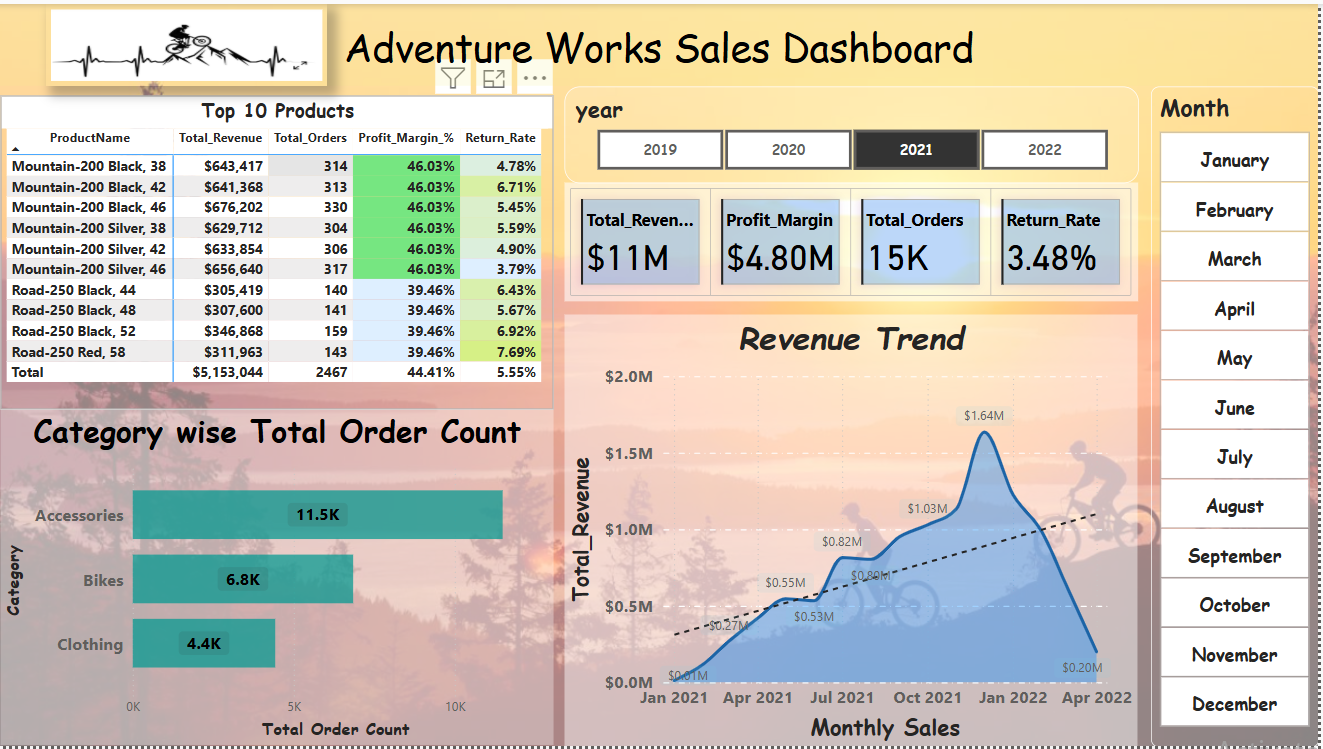

This screenshot's page, from the dashboard's own definition file:
{"tool":"powerbi","page":{"name":"Page 7","canvas":[1280,720],"ordinal":6},"visuals":[{"type":"cardVisual","fields":{"Data":["Measure_Table.Total_Revenue","Measure_Table.Profit_Margin","Measure_Table.Total_Orders","Measure_Table.Return_Rate"]},"box":[548.3,173.3,556.7,115],"z":0},{"type":"pivotTable","title":"Top 10 Products","fields":{"Rows":["Product Lookup.ProductName"],"Values":["Measure_Table.Total_Revenue","Measure_Table.Total_Orders","Measure_Table.Profit_Margin_%","Measure_Table.Return_Rate"]},"box":[2.2,89.1,537,304.3],"z":1000},{"type":"clusteredBarChart","title":"Category wise Total Order Count","fields":{"Category":["Product Categories Lookup.CategoryName"],"Y":["Measure_Table.Total_Orders"]},"box":[2.2,393.5,537,326.1],"z":2000},{"type":"slicer","title":"year","fields":{"Values":["Sales_Final.StockDate.Variation.Date Hierarchy.Year"]},"box":[548.9,79.3,557,93.9],"z":3000},{"type":"advancedSlicerVisual","fields":{"Values":["Calendar Lookup.Date.Variation.Date Hierarchy.Month"]},"box":[1117.3,79.3,163.5,641.2],"z":4000},{"type":"lineChart","title":"Revenue Trend","fields":{"Category":["Calendar Lookup.Date.Variation.Date Hierarchy.Year","Calendar Lookup.Date.Variation.Date Hierarchy.Month"],"Y":["Measure_Table.Total_Revenue"]},"box":[548.1,300.8,556,419],"z":5000},{"type":"textbox","box":[0,0,1280.8,79.3],"z":6000},{"type":"image","box":[45.3,0,273.6,79.3],"z":6001}]}

Visuals, with their boxes in screenshot pixels (x1, y1, x2, y2), scaled from the page's 1280x720 canvas onto the 1323x749 screenshot:
cardVisual - Measure_Table.Total_Revenue x Measure_Table.Profit_Margin: 567 180 1142 300
"Top 10 Products" pivotTable: 2 93 557 409
"Category wise Total Order Count" clusteredBarChart: 2 409 557 748
"year" slicer: 567 82 1143 180
advancedSlicerVisual - Calendar Lookup.Date.Variation.Date Hierarchy.Month: 1155 82 1322 748
"Revenue Trend" lineChart: 567 313 1141 748
textbox: 0 0 1322 82
image: 47 0 330 82
